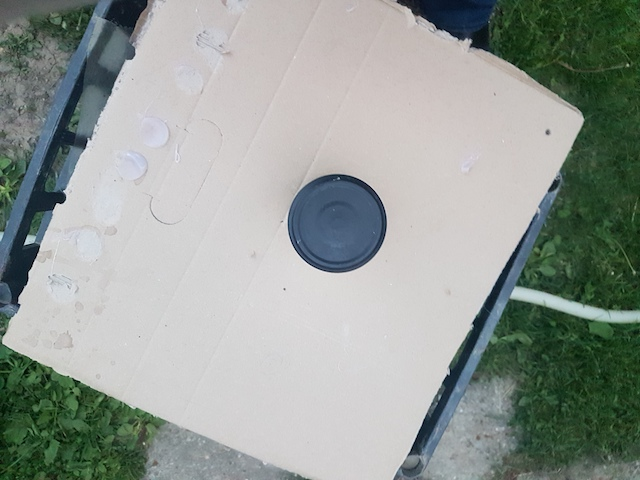recipient: (285, 171, 387, 274)
